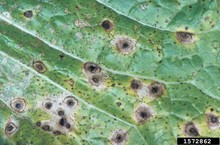damaged_cabbage: (1, 1, 218, 145)
